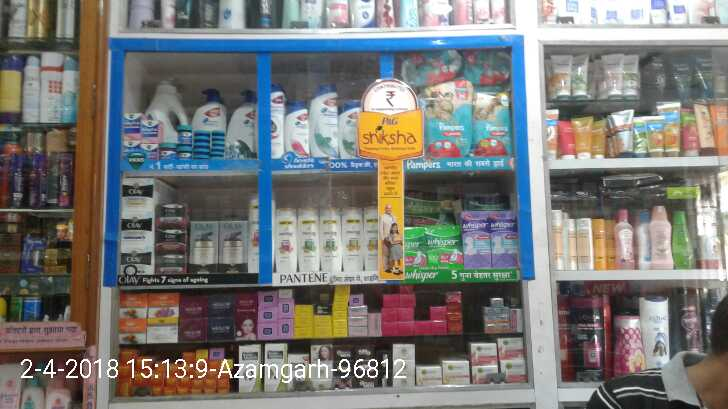vicks: (123, 113, 225, 160)
